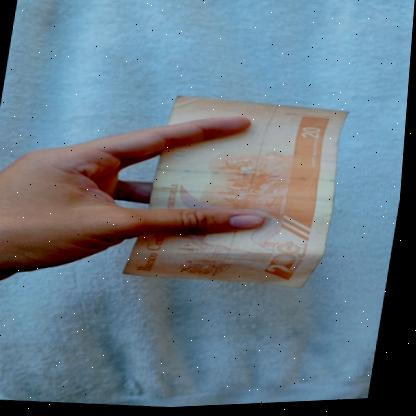vef_back: (124, 88, 353, 300)
